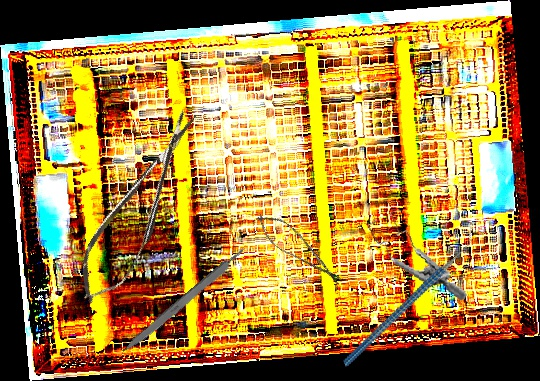Chopper: (314, 226, 503, 368)
Micro Scissor: (62, 101, 218, 313), (249, 206, 349, 291)
Scalpel Handle: (120, 246, 249, 357)
Speculum: (356, 204, 481, 301)
